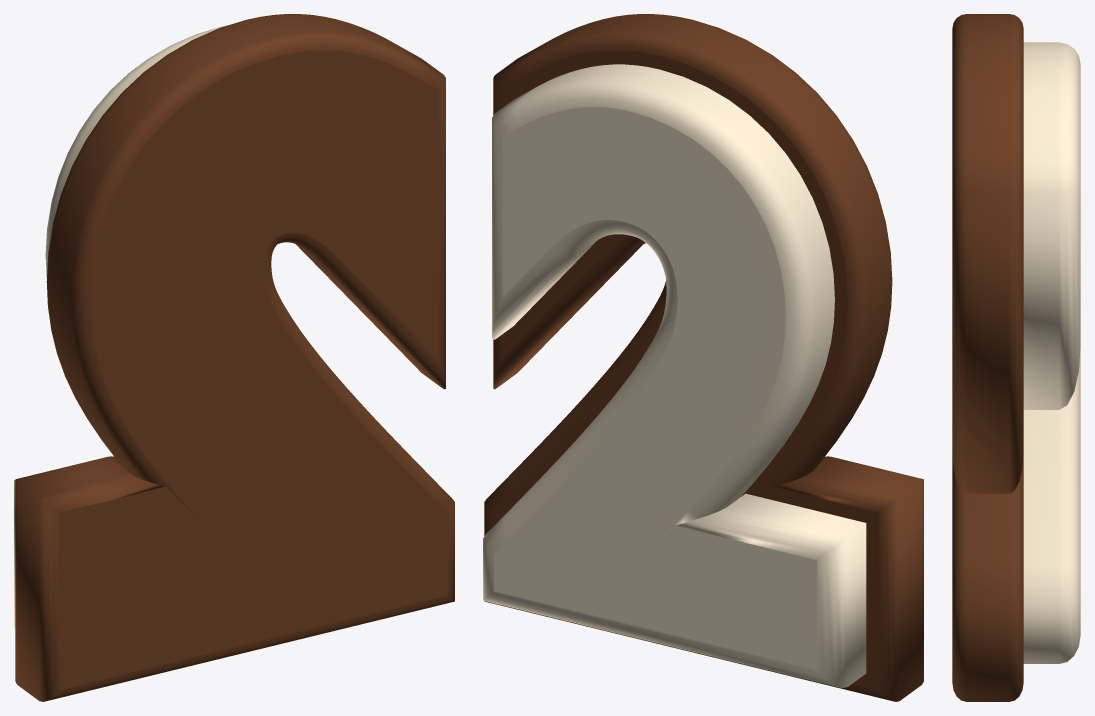
Rendered from Digit_2.fbx.
3 renders of one model, left to right at view 1: azimuth 30°, elevation 25°; view 2: azimuth 150°, elevation 25°; view 3: azimuth 270°, elevation 25°, orthographic. The views are drawn at different scales.
Visible parts, largest first — view 1: Digit_2; view 2: Digit_2; view 3: Digit_2.
Boxes of the visible parts, x1,y1,x2,y2 form: Digit_2: (14,14,454,701); Digit_2: (483,14,923,701); Digit_2: (952,14,1080,701).
Bounding box in the file's own units: 0.642 × 0.9011 × 0.18.
1 material, 1 textured.
